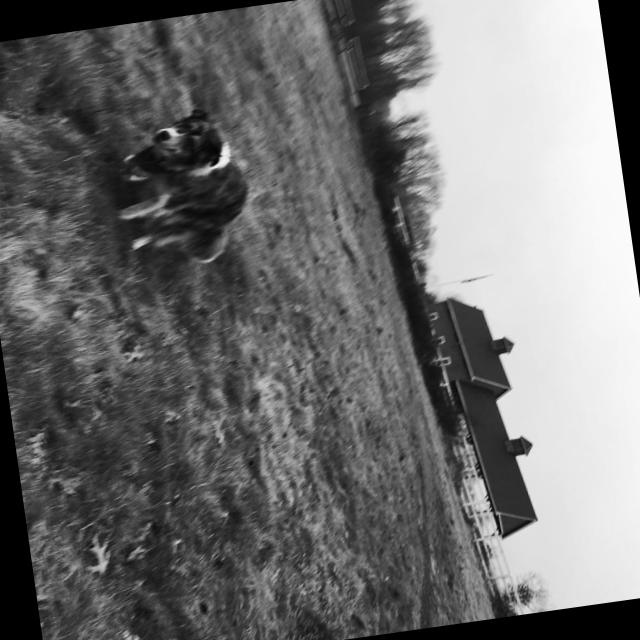squatting: (98, 86, 264, 282)
